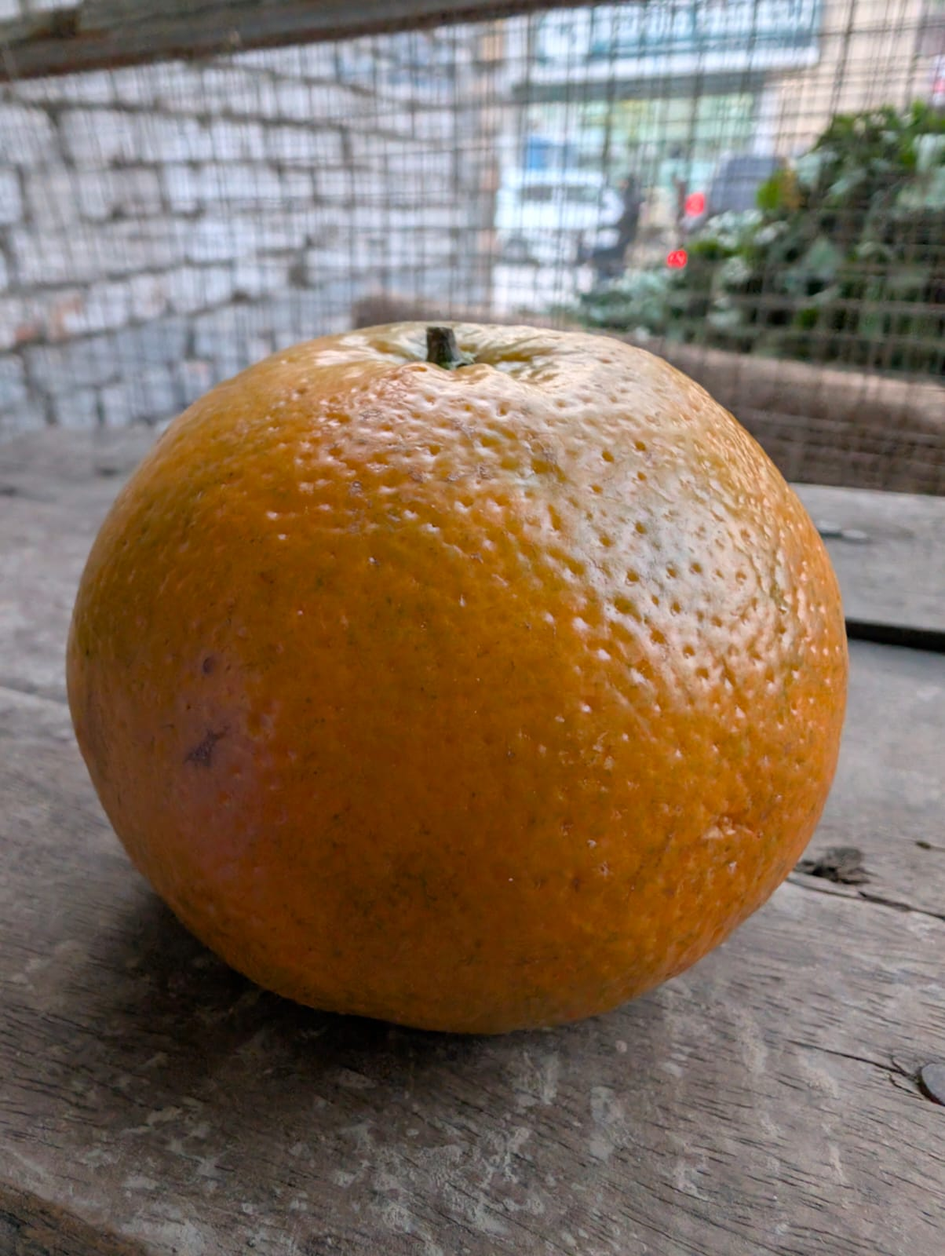orange: (58, 0, 868, 1111)
